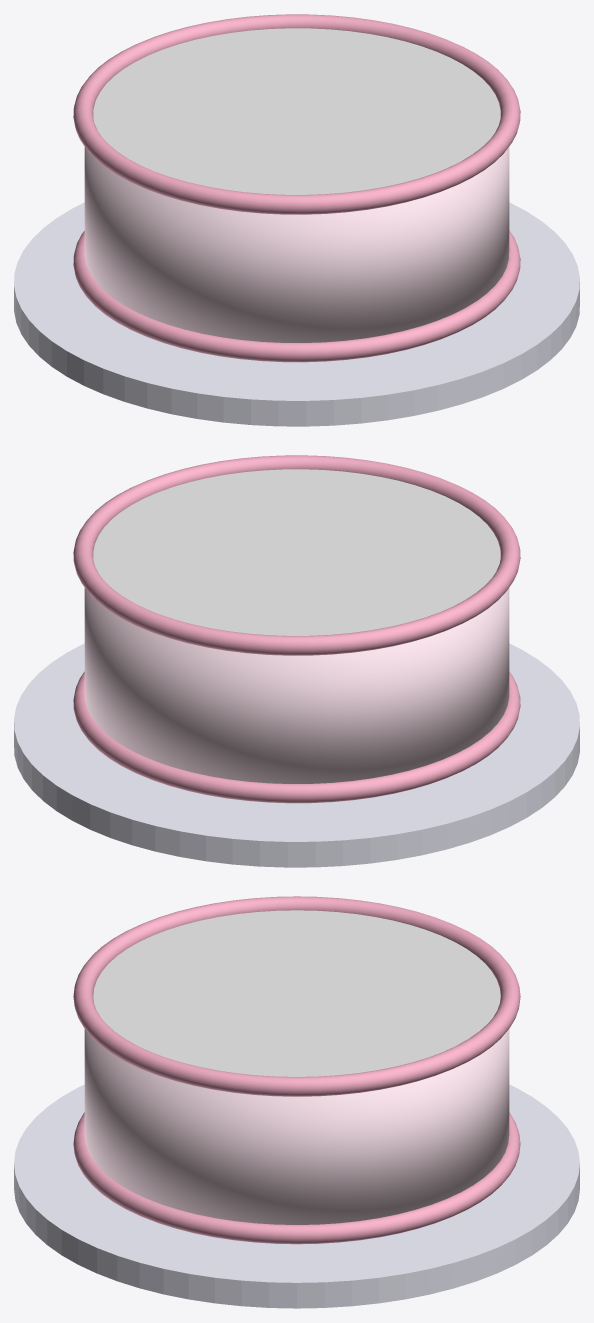
File: round_strawberry_image.glb
3 views of the same model, one above another, from view 1: azimuth 30°, elevation 25°; view 2: azimuth 150°, elevation 25°; view 3: azimuth 270°, elevation 25° (orthographic).
Visible parts, largest first — view 1: CakeBase, CakeTopImage, IcingStand, IcingRing, IcingRing.001; view 2: CakeBase, CakeTopImage, IcingStand, IcingRing, IcingRing.001; view 3: CakeBase, CakeTopImage, IcingStand, IcingRing, IcingRing.001.
Boxes of the visible parts, bbox=[...] form: CakeBase: bbox=[84, 147, 509, 342]; CakeTopImage: bbox=[93, 28, 500, 194]; IcingStand: bbox=[14, 202, 579, 426]; IcingRing: bbox=[73, 14, 520, 214]; IcingRing.001: bbox=[73, 230, 520, 362]; CakeBase: bbox=[84, 588, 509, 783]; CakeTopImage: bbox=[93, 469, 500, 635]; IcingStand: bbox=[14, 643, 579, 867]; IcingRing: bbox=[73, 455, 520, 655]; IcingRing.001: bbox=[73, 671, 520, 803]; CakeBase: bbox=[84, 1029, 509, 1224]; CakeTopImage: bbox=[93, 910, 500, 1076]; IcingStand: bbox=[14, 1084, 579, 1308]; IcingRing: bbox=[73, 896, 520, 1096]; IcingRing.001: bbox=[73, 1112, 520, 1244].
Bounding box in the file's own units: 4 × 1.57 × 4.
